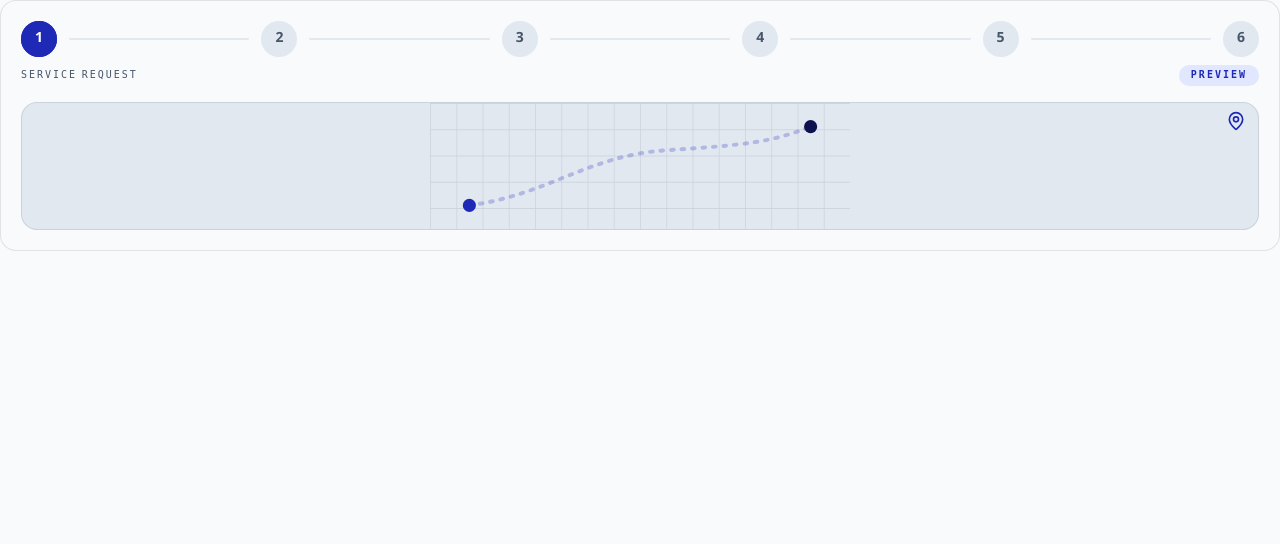
HeroStage › Completed shows the success chip and no ETA
The width and height of the screenshot is (1280, 544).
What coordinates should you click on to do the following:
click the button named "Show Completed state (step 6)"
I would click on:
 (1241, 39)
Its box is [1223, 21, 1259, 57].
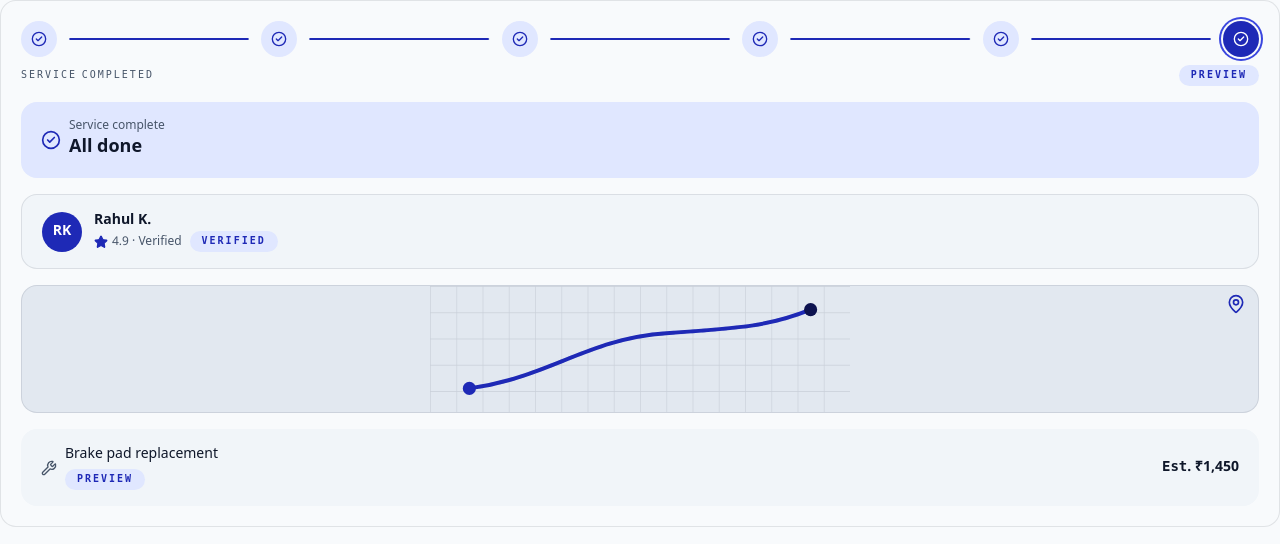
Expected: the text "Service complete" is shown, [69, 118, 165, 134]
Expected: the text "All done" is shown, [69, 136, 142, 159]
